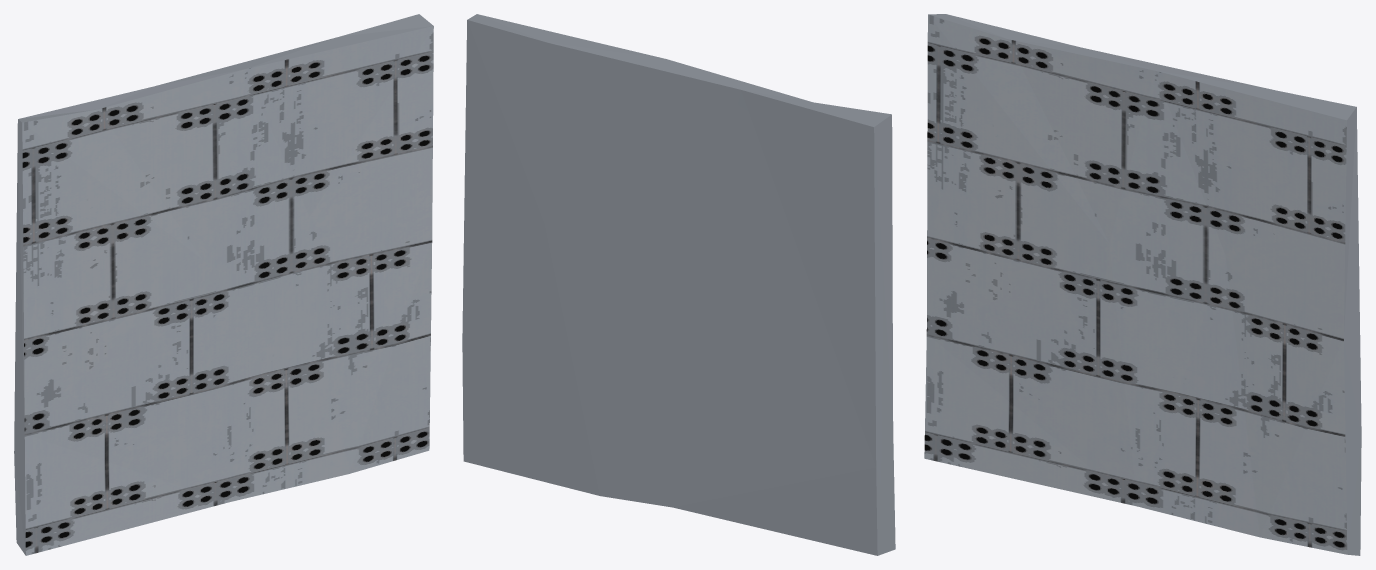
File: plat7.glb
3 views of the same model, side by side, from view 1: azimuth 30°, elevation 25°; view 2: azimuth 150°, elevation 25°; view 3: azimuth 330°, elevation 25° (orthographic). The views are drawn at different scales.
Visible parts, largest first — view 1: Solar_small_whole; view 2: Solar_small_whole; view 3: Solar_small_whole.
Boxes of the visible parts, x1,y1,x2,y2 form: Solar_small_whole: (14, 14, 433, 555); Solar_small_whole: (462, 14, 895, 555); Solar_small_whole: (924, 14, 1361, 555).
Bounding box in the file's own units: 2.32 × 2.34 × 0.1496.
Materials: 1 (1 with a texture image).
